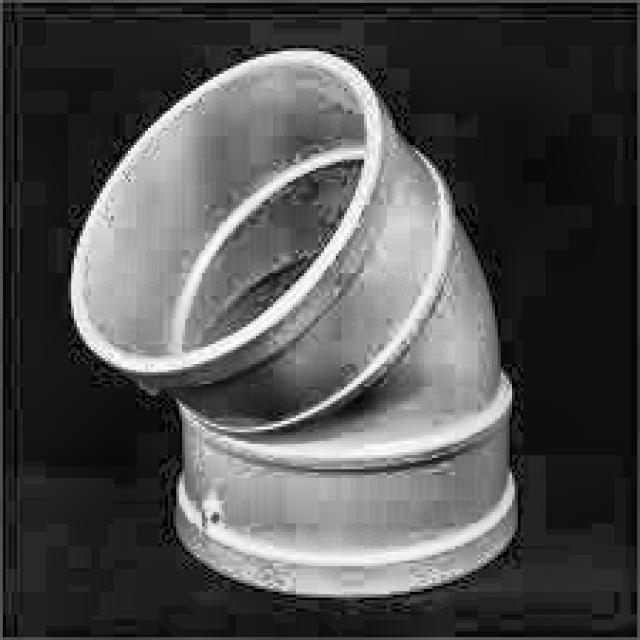ELBOW45: (68, 48, 521, 600)
